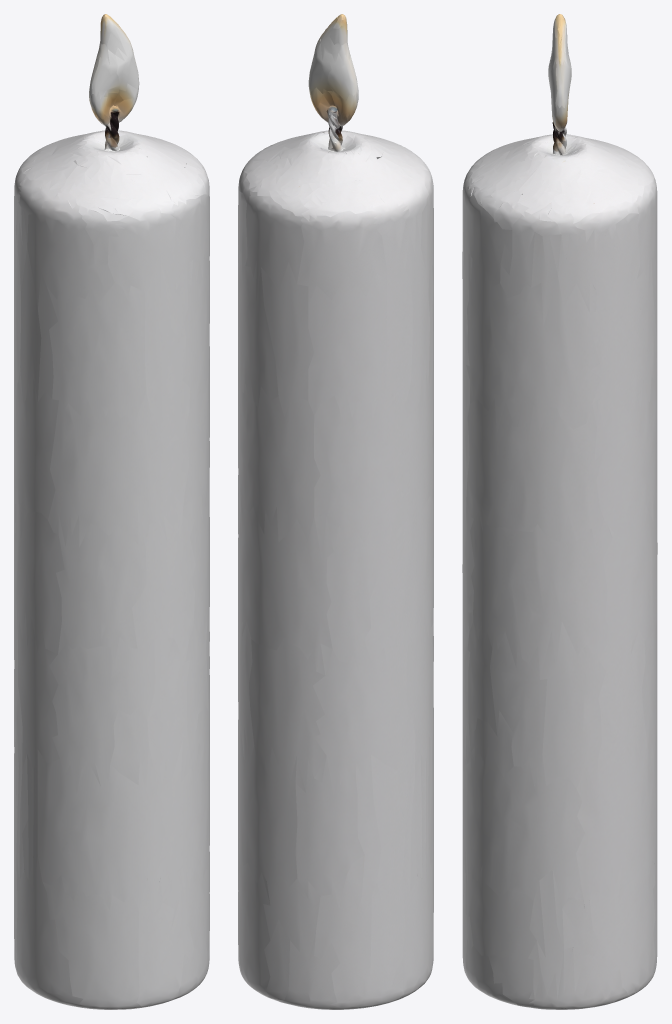
File: Meshy_AI_Candle_Remesh_0908183233_texture.glb
3 views of the same model, side by side, from view 1: azimuth 30°, elevation 25°; view 2: azimuth 150°, elevation 25°; view 3: azimuth 270°, elevation 25° (orthographic).
Parts seen in each view (by area): view 1: output_unwrapped; view 2: output_unwrapped; view 3: output_unwrapped.
Boxes of the visible parts, x1=… form: output_unwrapped: x1=14, y1=14, x2=209, y2=1009; output_unwrapped: x1=238, y1=14, x2=433, y2=1009; output_unwrapped: x1=462, y1=14, x2=657, y2=1009.
Size of the model in its own units: 0.3517 by 1.9 by 0.3517.
1 material, 1 textured.
